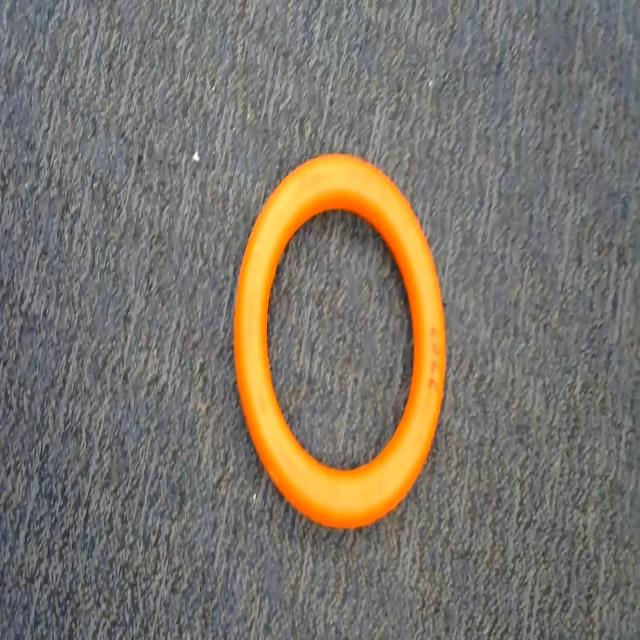note: (223, 143, 464, 532)
